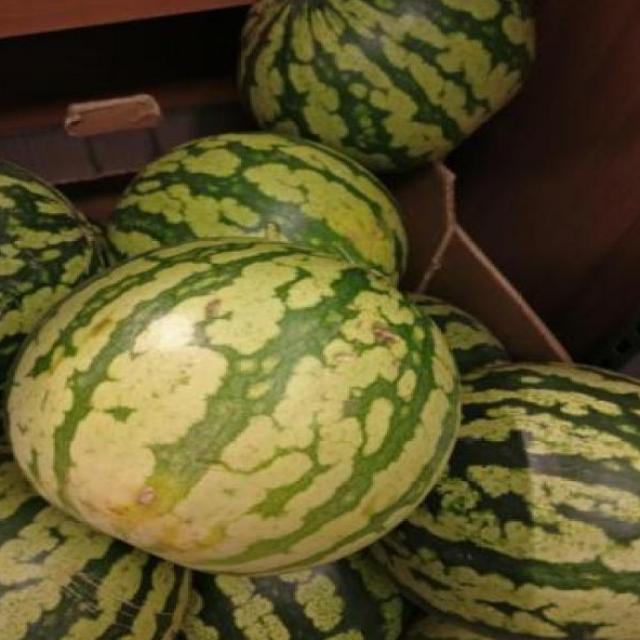Watermelon: (9, 239, 462, 577), (370, 360, 640, 640), (240, 0, 538, 170), (103, 134, 409, 288), (0, 150, 101, 390)
